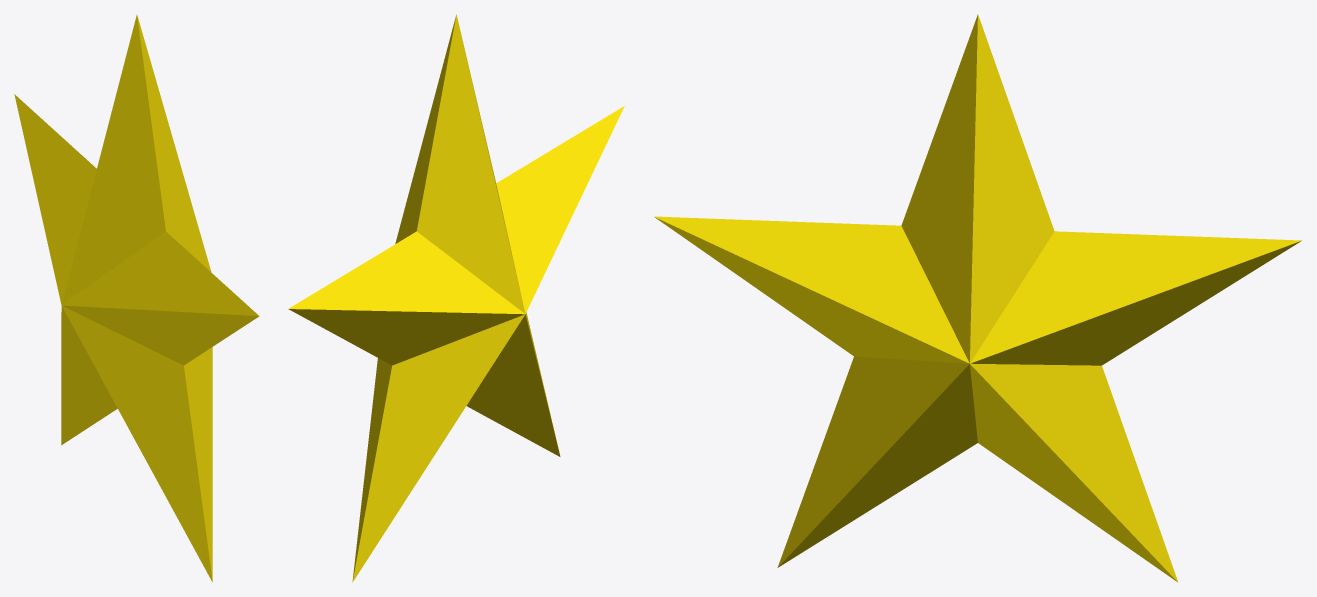
File: findstar.gltf
The picture shows the model from 3 angles, left to right: view 1: azimuth 30°, elevation 25°; view 2: azimuth 150°, elevation 25°; view 3: azimuth 270°, elevation 25°; orthographic projection. The views are drawn at different scales.
Visible parts, largest first — view 1: Mesh_Mesh.011; view 2: Mesh_Mesh.011; view 3: Mesh_Mesh.011.
Part boxes in pixels (box(x1,y1,x2,y2)): Mesh_Mesh.011: box(14, 15, 259, 581); Mesh_Mesh.011: box(288, 14, 624, 582); Mesh_Mesh.011: box(654, 14, 1301, 582).
Bounding box in the file's own units: 2.01 × 6.67 × 6.99.
